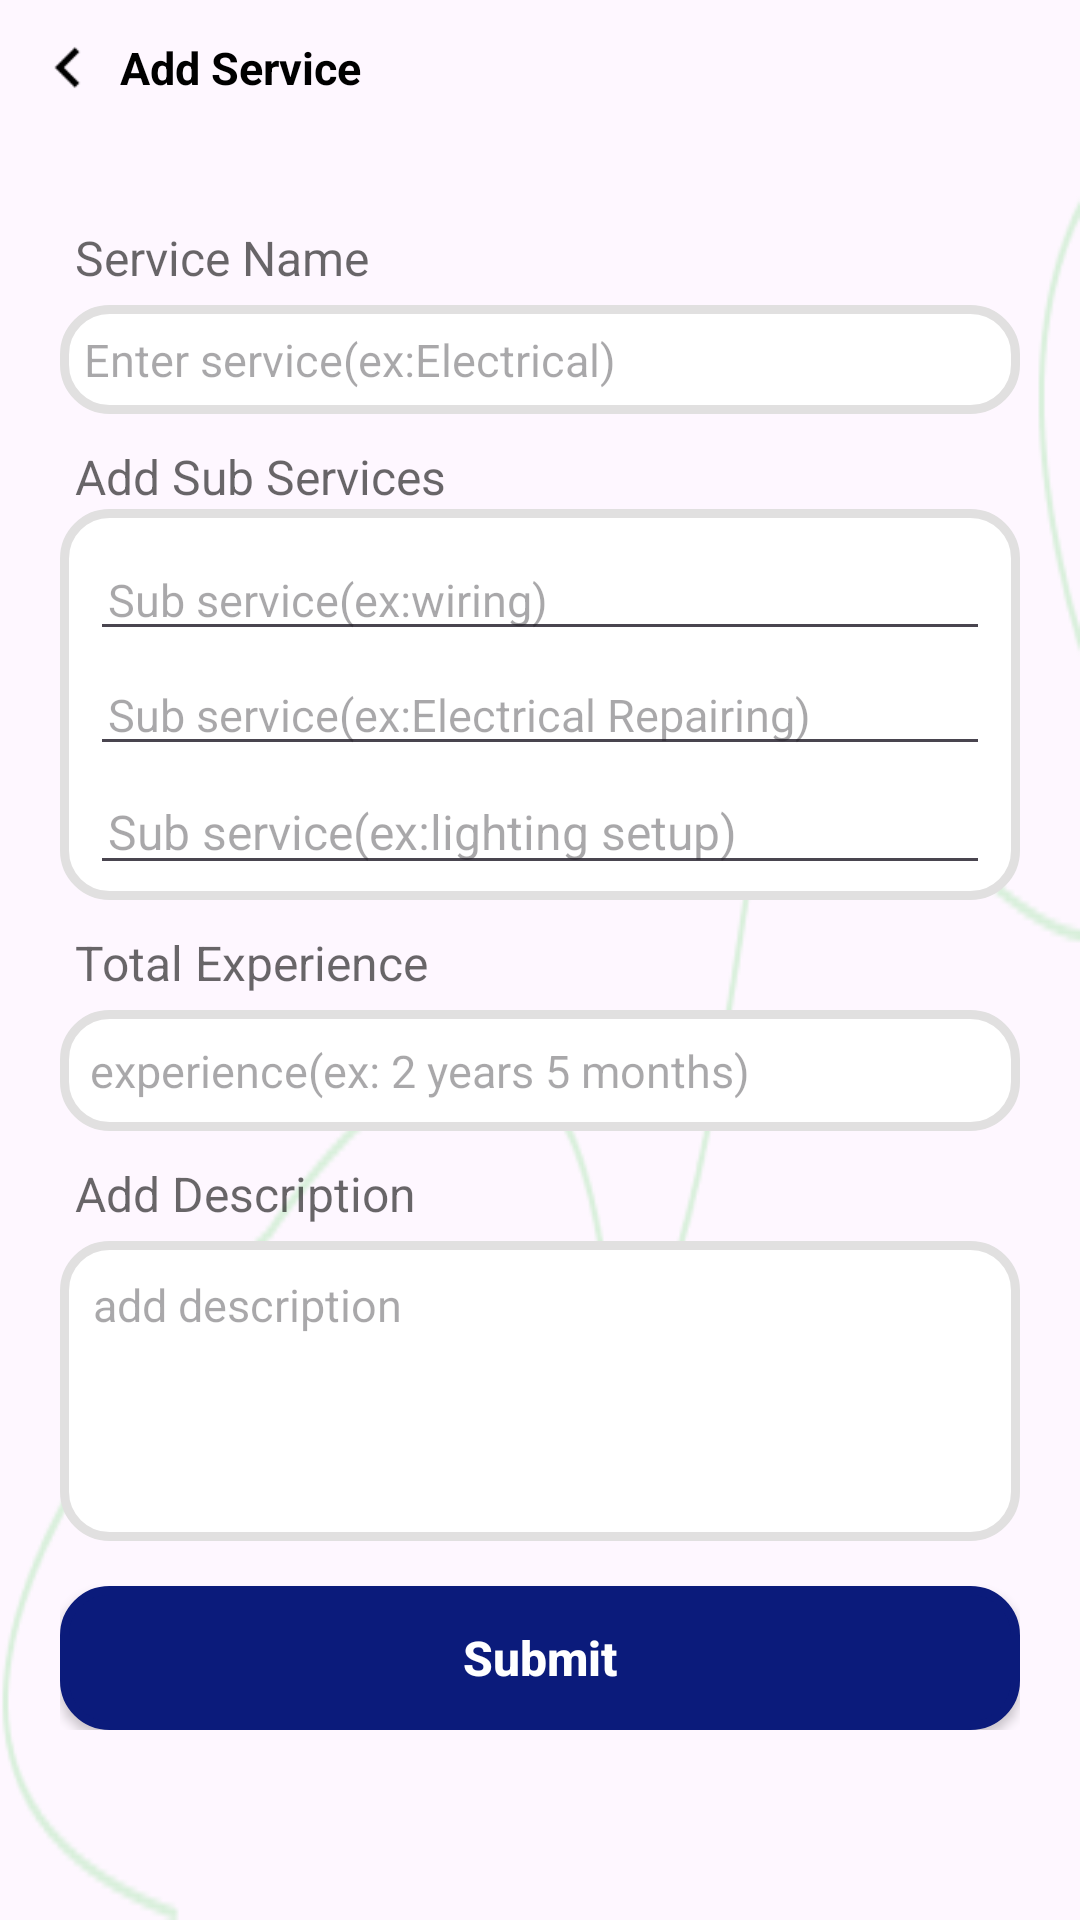

Icons on this 1080 x 1920 Android screen, each with the point to tap as point (x, y):
backword: point (67, 67)
